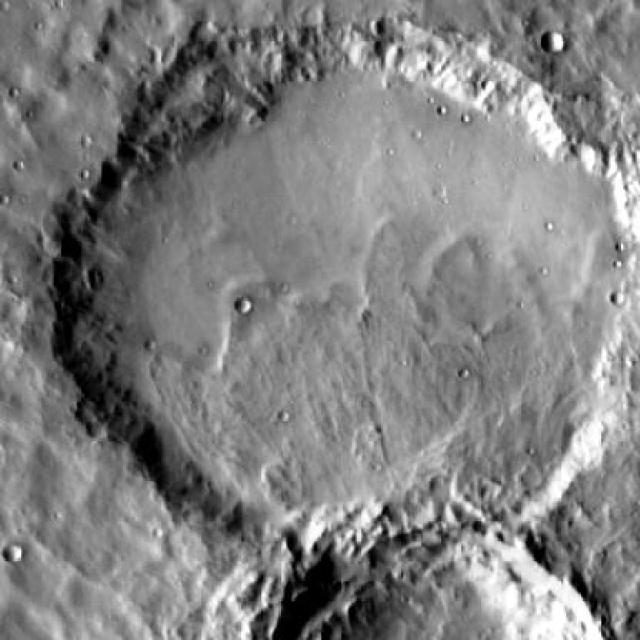crater: (71, 21, 640, 574), (542, 30, 564, 52), (1, 542, 22, 560)
